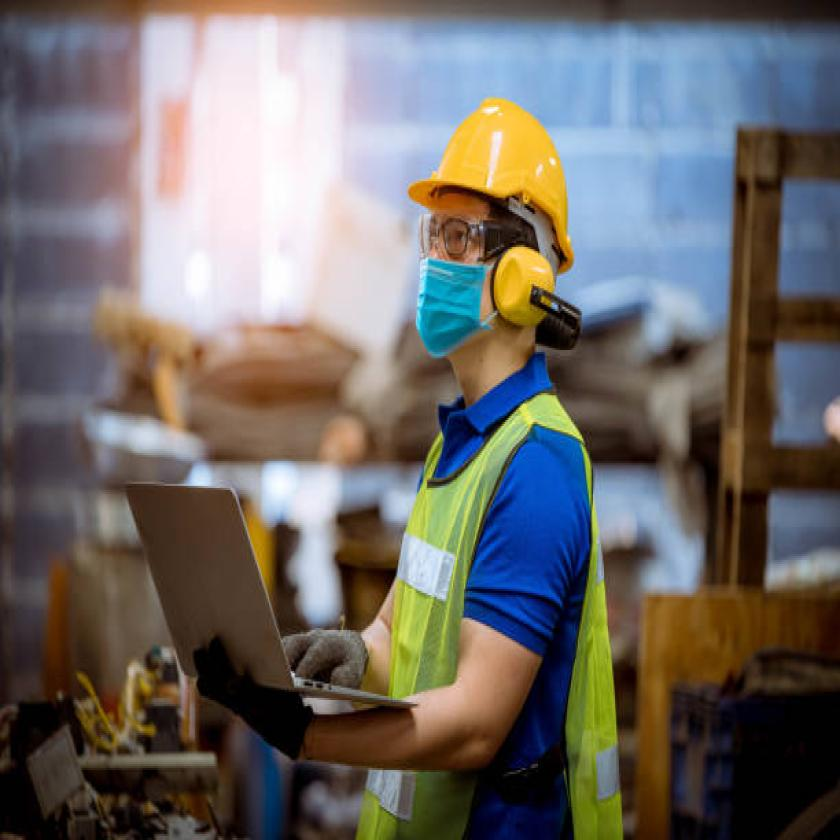Con_casco: (393, 87, 577, 370)
